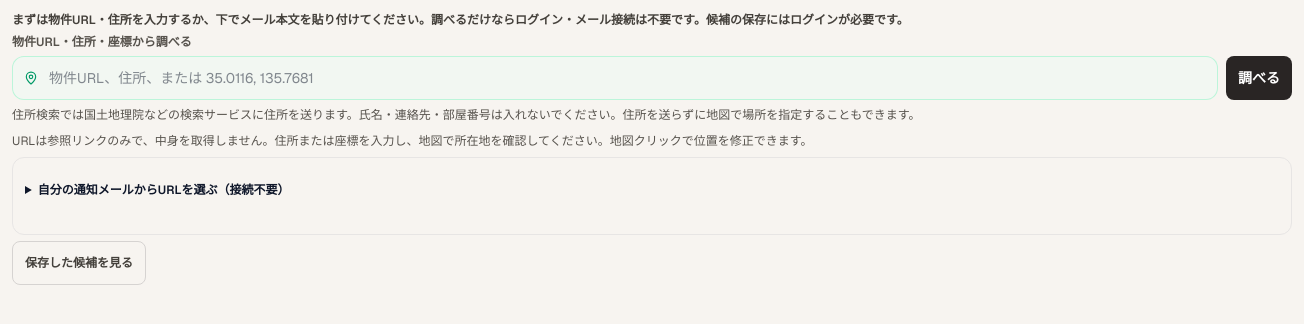
Test: listing candidate flow › same point cannot be judged or saved
In the field labelled "物件URL・住所・座標から調べる": x=615, y=78 [12,56,1218,100], type "35,135"
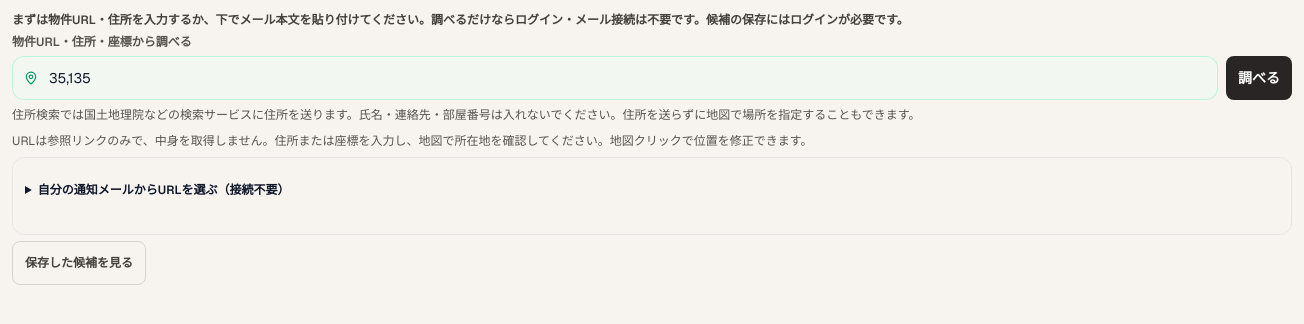
Click the button "調べる": x=1259, y=78 [1226,56,1292,100]
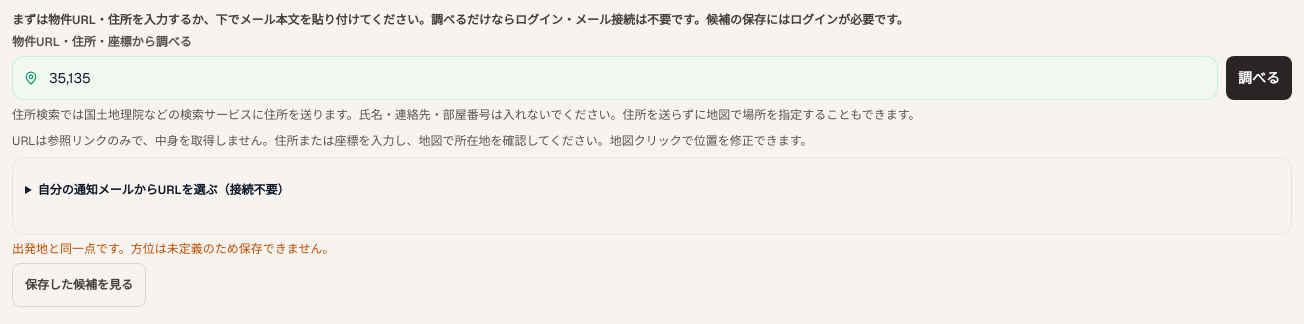
expect the message shows "方位は未定義": met, box [12,241,334,257]
